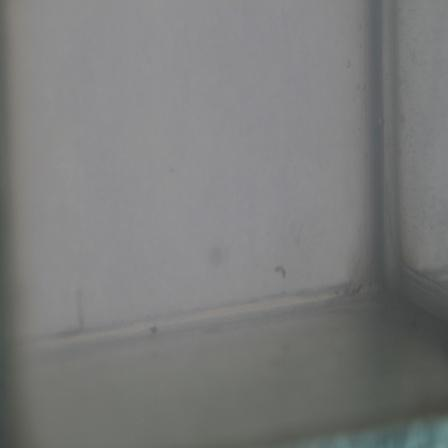Jentik-Nyamuk: (272, 262, 290, 283)
